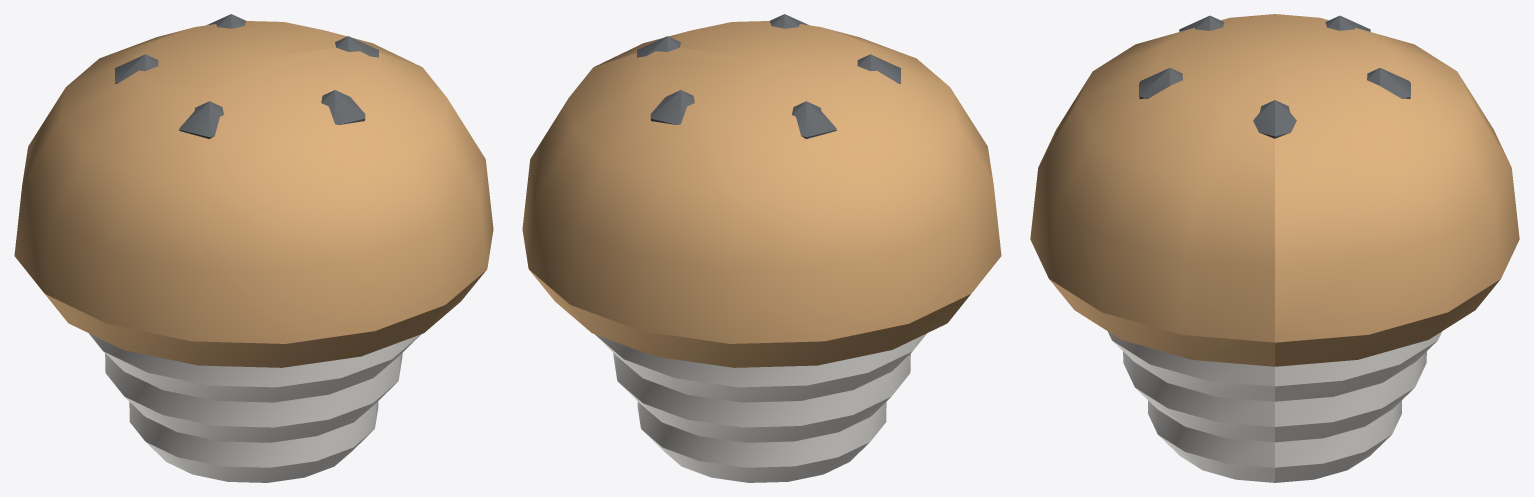
The model's file is bakery-and-cafe-muffin-675ca6d3__22243.glb.
3 renders of one model, left to right at view 1: azimuth 30°, elevation 25°; view 2: azimuth 150°, elevation 25°; view 3: azimuth 270°, elevation 25°, orthographic.
Visible parts, largest first — view 1: muffin; view 2: muffin; view 3: muffin.
Part boxes in pixels (x1,y1,x2,y2): muffin: (14,14,493,482); muffin: (522,14,1001,482); muffin: (1030,14,1519,482).
Size of the model in its own units: 0.124 by 0.108 by 0.124.
